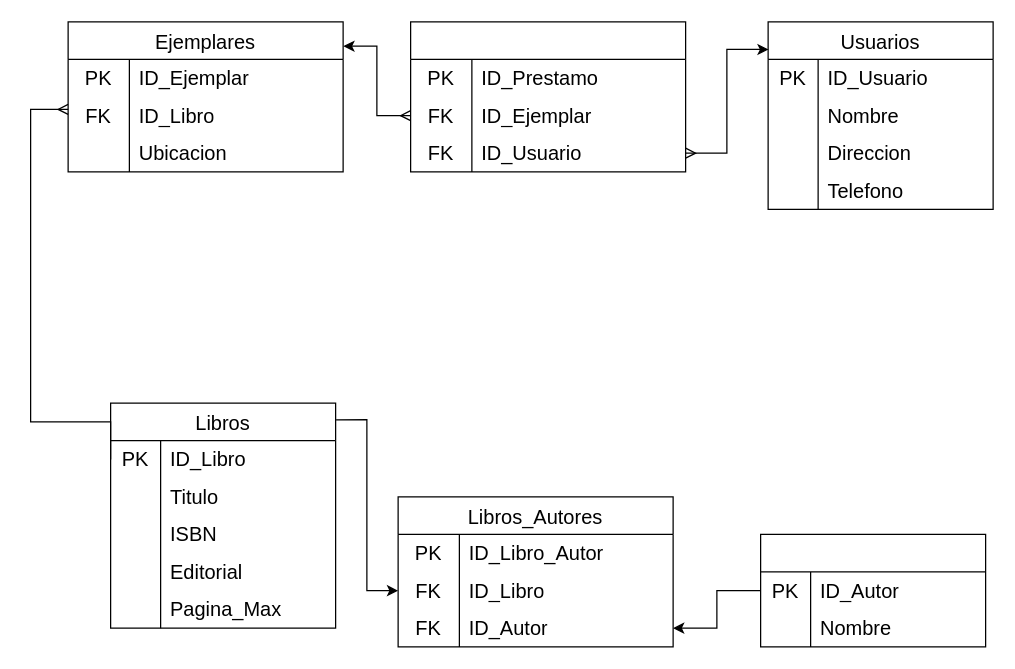
Image size: 1015x669. Some labels were removed from this diagram. Each missing label, with the box of its shape:
Autores: (759, 533, 986, 647)
Préstamos: (409, 21, 686, 172)
